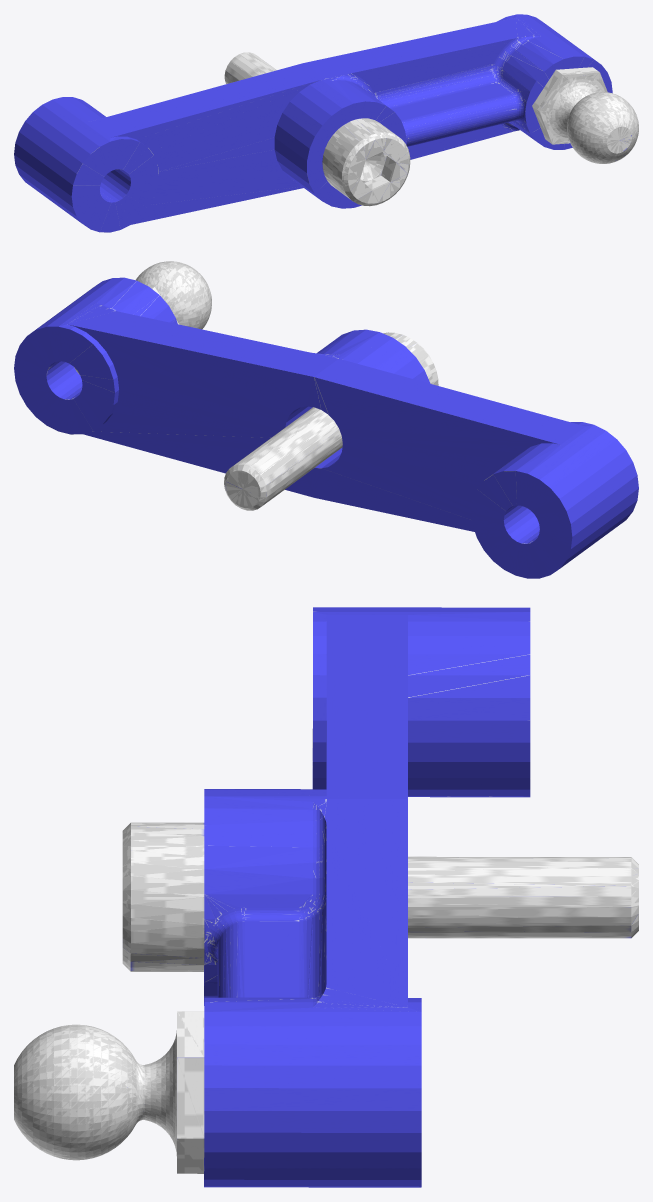
The model's file is Crank_Right.dae.
3 renders of one model, top to bottom at view 1: azimuth 30°, elevation 25°; view 2: azimuth 150°, elevation 25°; view 3: azimuth 270°, elevation 25°, orthographic. The views are drawn at different scales.
Parts seen in each view (by area): view 1: node; view 2: node; view 3: node.
Boxes of the visible parts, x1,y1,x2,y2 form: node: (14, 14, 638, 232); node: (14, 261, 638, 578); node: (14, 607, 638, 1187).
Size of the model in its own units: 0.041 by 0.008 by 0.023.
Materials: 1 (1 with a texture image).
